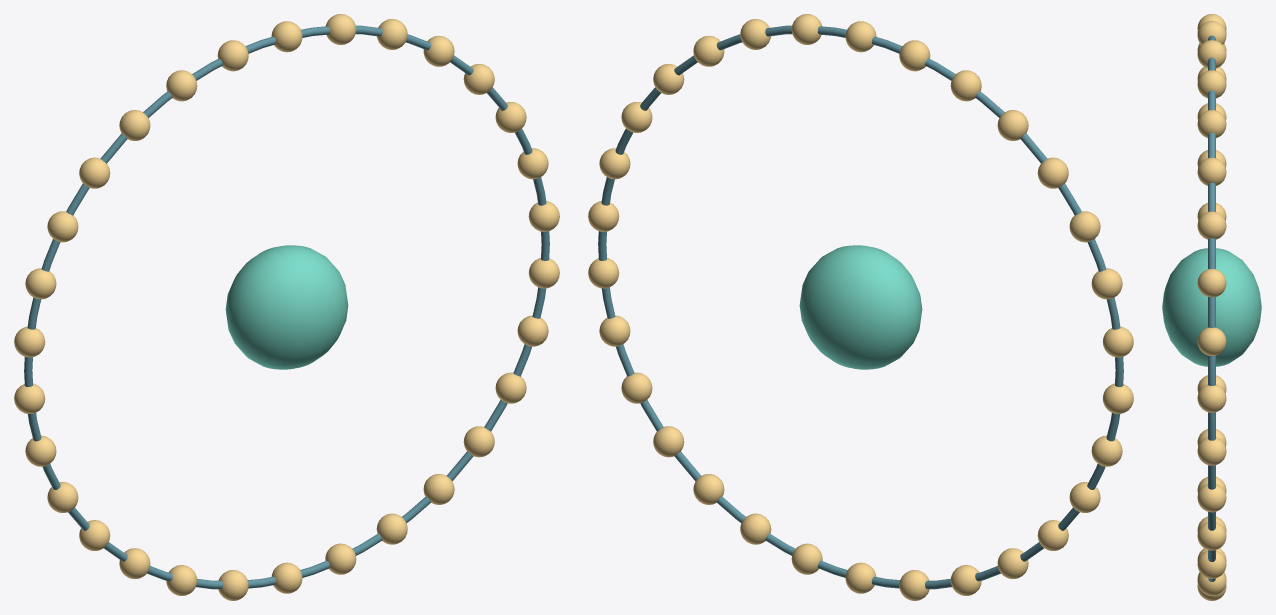
Rendered from wimHof.glb.
The picture shows the model from 3 angles, left to right: view 1: azimuth 30°, elevation 25°; view 2: azimuth 150°, elevation 25°; view 3: azimuth 270°, elevation 25°; orthographic projection. The views are drawn at different scales.
Visible parts, largest first — view 1: breath_core, bead_thread, bead_26, bead_11, bead_10, bead_25, bead_27, bead_24, bead_28, bead_12, bead_13, bead_9 (+20 smaller); view 2: breath_core, bead_thread, bead_26, bead_11, bead_10, bead_25, bead_27, bead_24, bead_28, bead_12, bead_13, bead_9 (+20 smaller); view 3: breath_core, bead_thread, bead_6, bead_4, bead_5, bead_7, bead_8, bead_3, bead_2, bead_9, bead_1, bead_10 (+12 smaller).
Part boxes in pixels (x1=…): breath_core: x1=225, y1=245, x2=348, y2=369; bead_thread: x1=24, y1=25, x2=549, y2=589; bead_26: x1=79, y1=157, x2=110, y2=188; bead_11: x1=463, y1=426, x2=494, y2=457; bead_10: x1=495, y1=372, x2=526, y2=403; bead_25: x1=47, y1=211, x2=78, y2=242; bead_27: x1=119, y1=110, x2=150, y2=140; bead_24: x1=25, y1=268, x2=56, y2=299; bead_28: x1=166, y1=70, x2=197, y2=101; bead_12: x1=423, y1=474, x2=454, y2=504; bead_13: x1=376, y1=513, x2=407, y2=544; bead_9: x1=517, y1=315, x2=548, y2=346; breath_core: x1=799, y1=245, x2=922, y2=369; bead_thread: x1=598, y1=25, x2=1123, y2=589; bead_26: x1=1037, y1=157, x2=1068, y2=188; bead_11: x1=653, y1=426, x2=684, y2=457; bead_10: x1=621, y1=372, x2=652, y2=403; bead_25: x1=1069, y1=211, x2=1100, y2=242; bead_27: x1=997, y1=110, x2=1028, y2=140; bead_24: x1=1091, y1=268, x2=1122, y2=299; bead_28: x1=950, y1=70, x2=981, y2=101; bead_12: x1=693, y1=474, x2=724, y2=504; bead_13: x1=740, y1=513, x2=771, y2=544; bead_9: x1=599, y1=315, x2=630, y2=346; breath_core: x1=1162, y1=248, x2=1261, y2=366; bead_thread: x1=1208, y1=35, x2=1215, y2=581; bead_6: x1=1197, y1=327, x2=1226, y2=355; bead_4: x1=1197, y1=211, x2=1226, y2=239; bead_5: x1=1197, y1=269, x2=1226, y2=296; bead_7: x1=1197, y1=384, x2=1226, y2=412; bead_8: x1=1197, y1=437, x2=1226, y2=465; bead_3: x1=1197, y1=157, x2=1226, y2=185; bead_2: x1=1197, y1=110, x2=1226, y2=138; bead_9: x1=1197, y1=484, x2=1226, y2=512; bead_1: x1=1197, y1=70, x2=1226, y2=98; bead_10: x1=1197, y1=522, x2=1226, y2=550.
Size of the model in its own units: 2.93 by 2.95 by 0.5.
